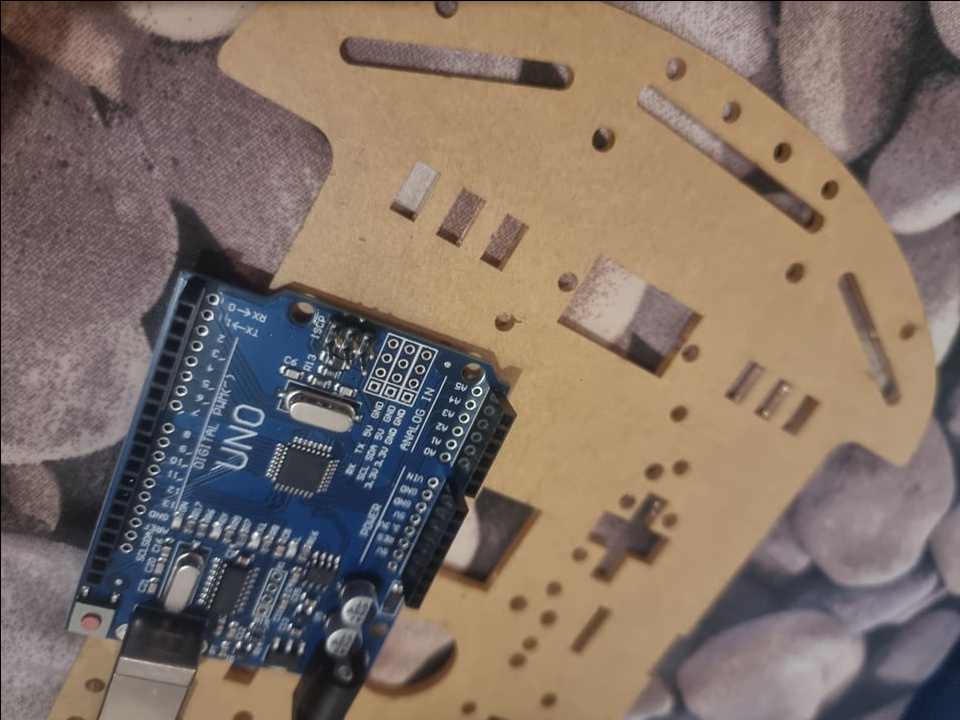UNO R3: (67, 265, 516, 719)
